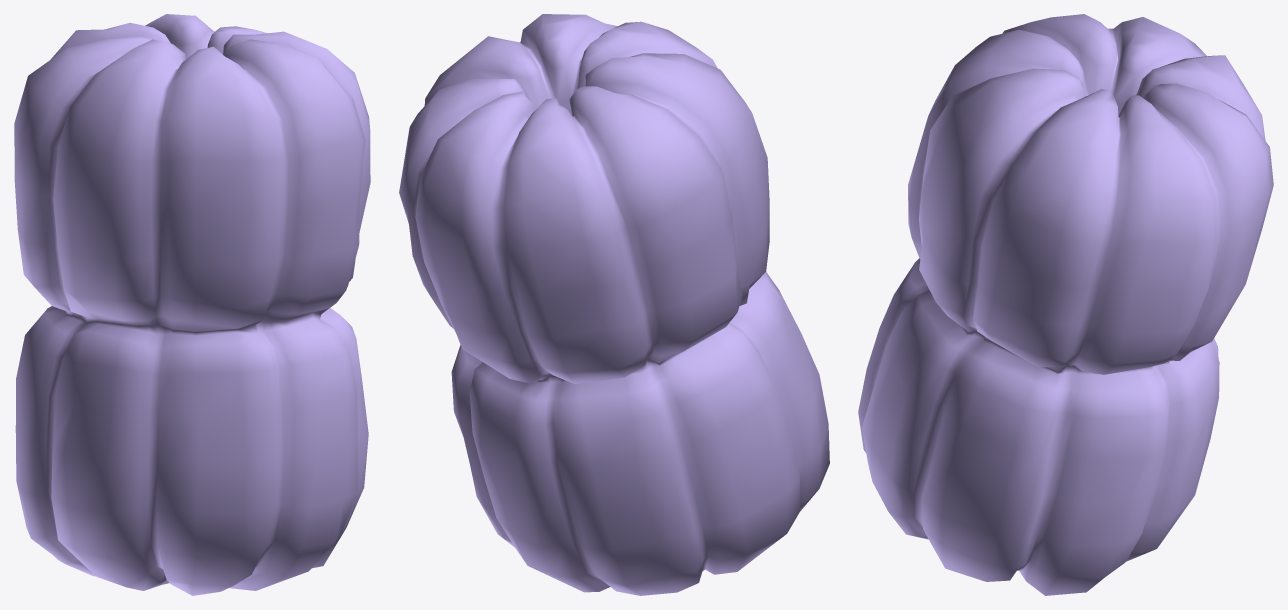
The model's file is protein_nucleopore.gltf.
3 views of the same model, side by side, from view 1: azimuth 30°, elevation 25°; view 2: azimuth 150°, elevation 25°; view 3: azimuth 270°, elevation 25° (orthographic).
Parts seen in each view (by area): view 1: Protein_99; view 2: Protein_99; view 3: Protein_99.
Boxes of the visible parts, bbox=[...] form: Protein_99: bbox=[14, 14, 370, 595]; Protein_99: bbox=[399, 14, 829, 595]; Protein_99: bbox=[858, 14, 1273, 595].
Bounding box in the file's own units: 0.8493 × 1.23 × 0.8824.
